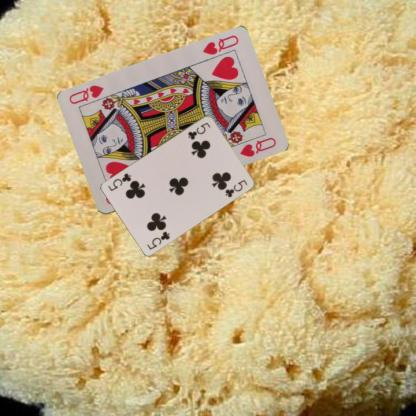5c: (144, 228, 171, 251), (186, 119, 212, 140)
Qh: (200, 33, 240, 57)
